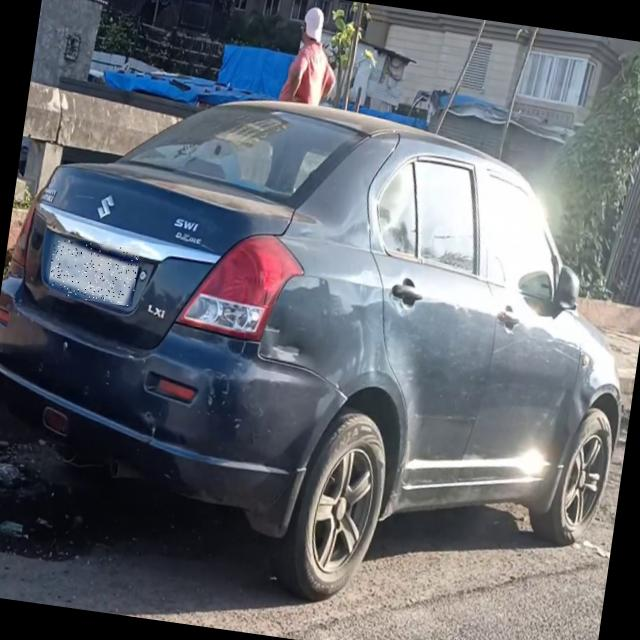Plate: (48, 239, 141, 308)
